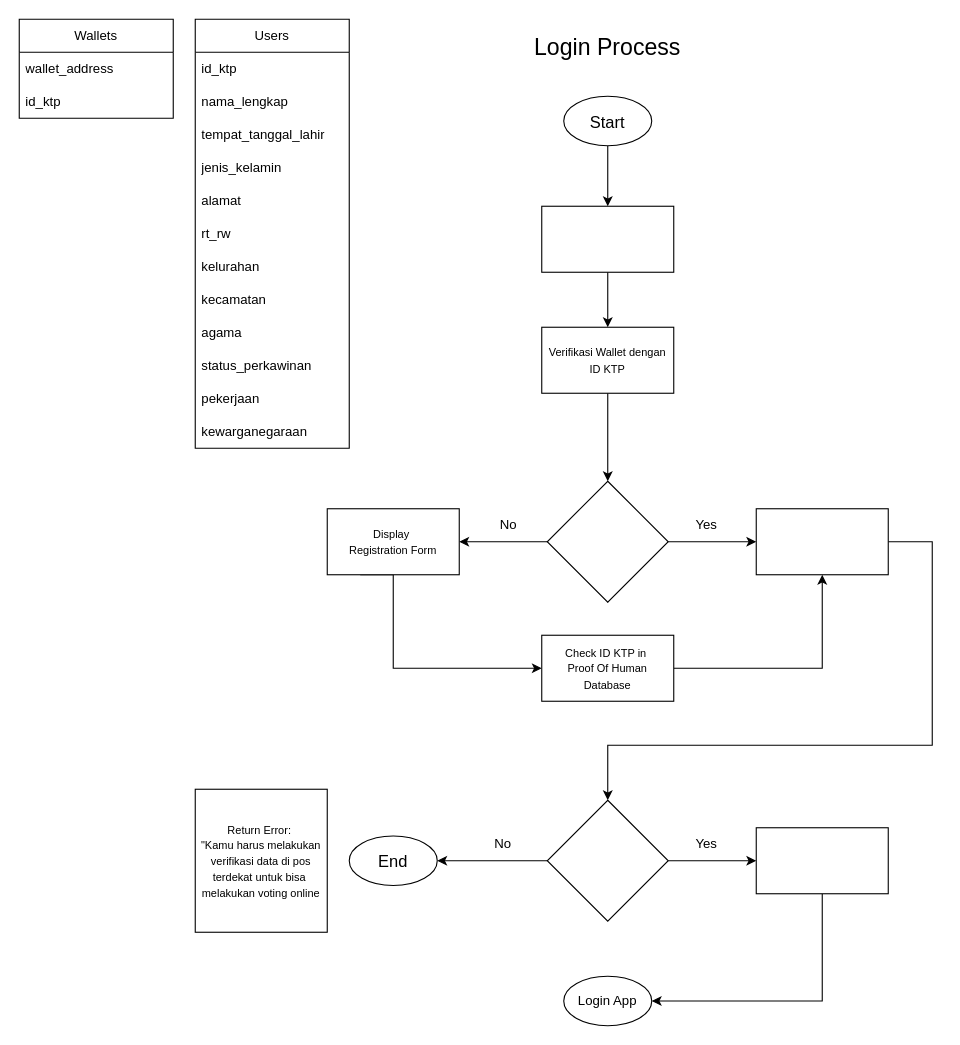
The diagram is 960 pixels wide and 1045 high, and some of its shapes have lost their labels. Each missing label, with the centre of its shape:
"Is ID KTP Found In Database?" belongs at (x=607, y=860).
"Is wallet registered with ID KTP" belongs at (x=607, y=541).
"Register In Smart Contract" belongs at (x=821, y=860).
"User Connect MetaMask" belongs at (x=607, y=238).
"Validate Digital ID KTP Signature" belongs at (x=821, y=541).
